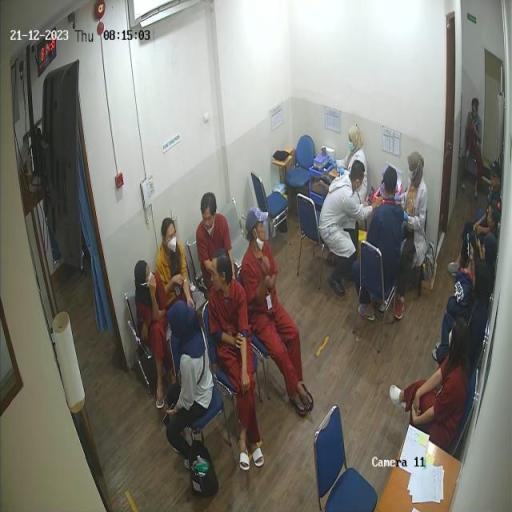person: (240, 204, 315, 417), (208, 251, 266, 472), (391, 317, 473, 453), (163, 293, 225, 467), (320, 159, 384, 298), (357, 167, 408, 324), (134, 261, 180, 411), (449, 162, 502, 275), (433, 263, 489, 366), (395, 152, 428, 319), (448, 234, 497, 322), (197, 193, 237, 296), (157, 219, 198, 313), (328, 125, 370, 205), (464, 201, 501, 265), (466, 98, 485, 200)
